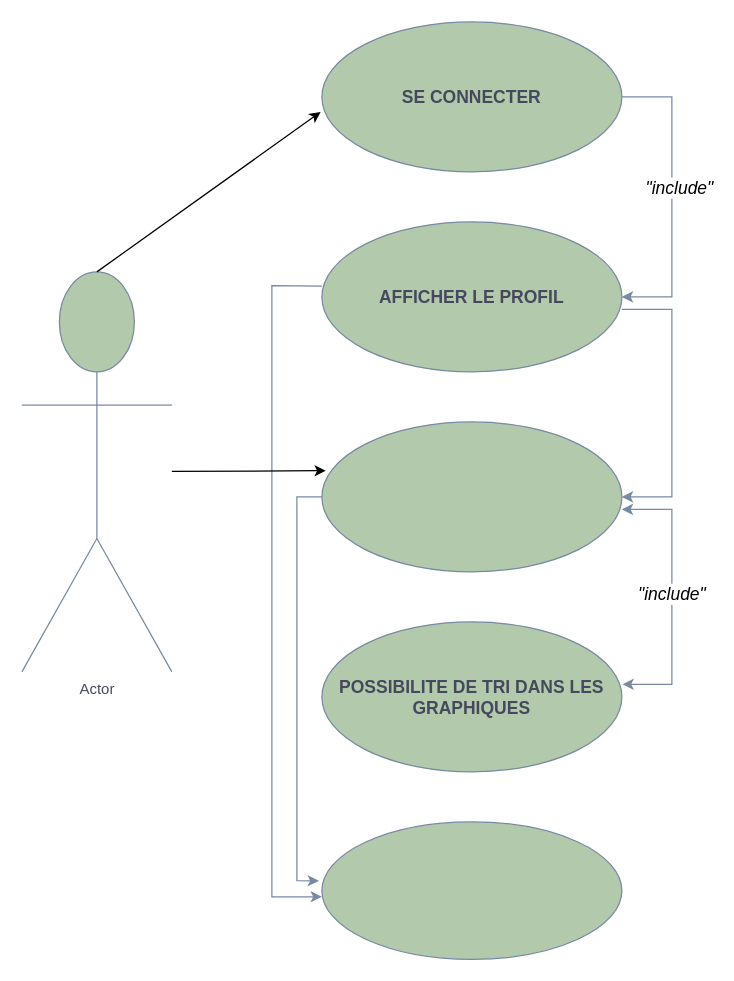
The diagram is 734 pixels wide and 981 high, and some of its shapes have lost their labels. The box of each missing label's shape, as (x1, y1, x2, y2) in pixels:
AFFICHER LES GRAPHIQUES: (321, 421, 622, 572)
SE DECONNECTER: (321, 821, 622, 959)
